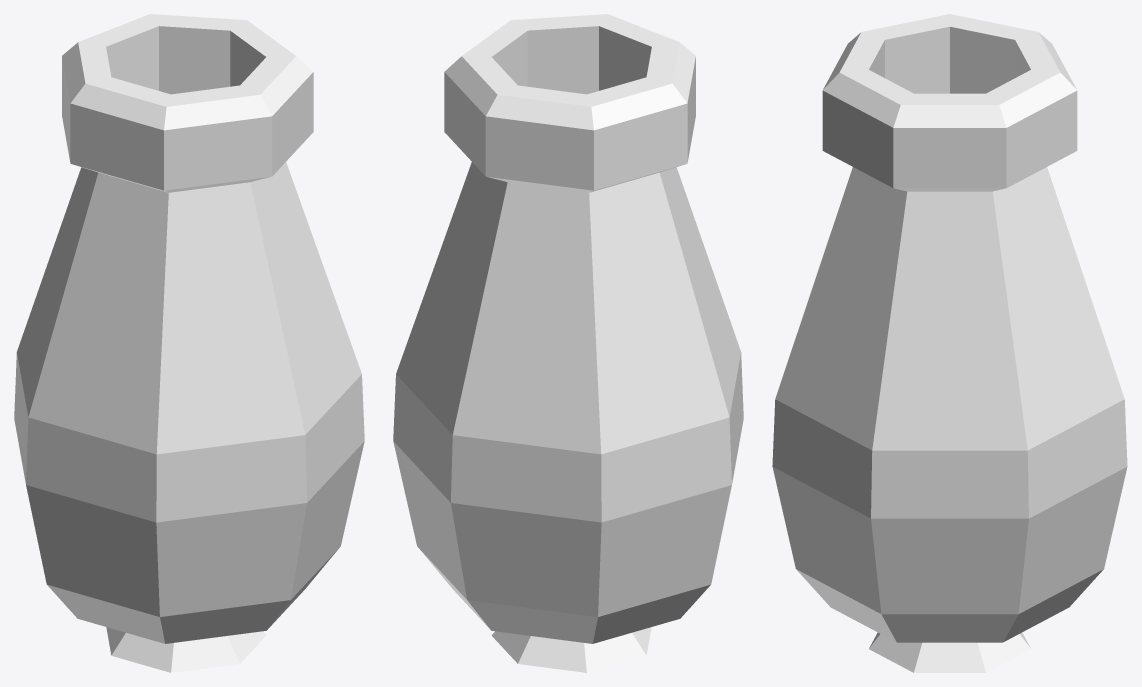
File: cannon_2.fbx
The picture shows the model from 3 angles, left to right: view 1: azimuth 30°, elevation 25°; view 2: azimuth 150°, elevation 25°; view 3: azimuth 270°, elevation 25°; orthographic projection.
Parts seen in each view (by area): view 1: Cylinder.034; view 2: Cylinder.034; view 3: Cylinder.034.
Boxes of the visible parts, box(x1,y1,x2,y2) form: Cylinder.034: box(14, 14, 364, 672); Cylinder.034: box(393, 14, 743, 672); Cylinder.034: box(772, 14, 1127, 672).
Bounding box in the file's own units: 29.35 × 55.74 × 30.1.
